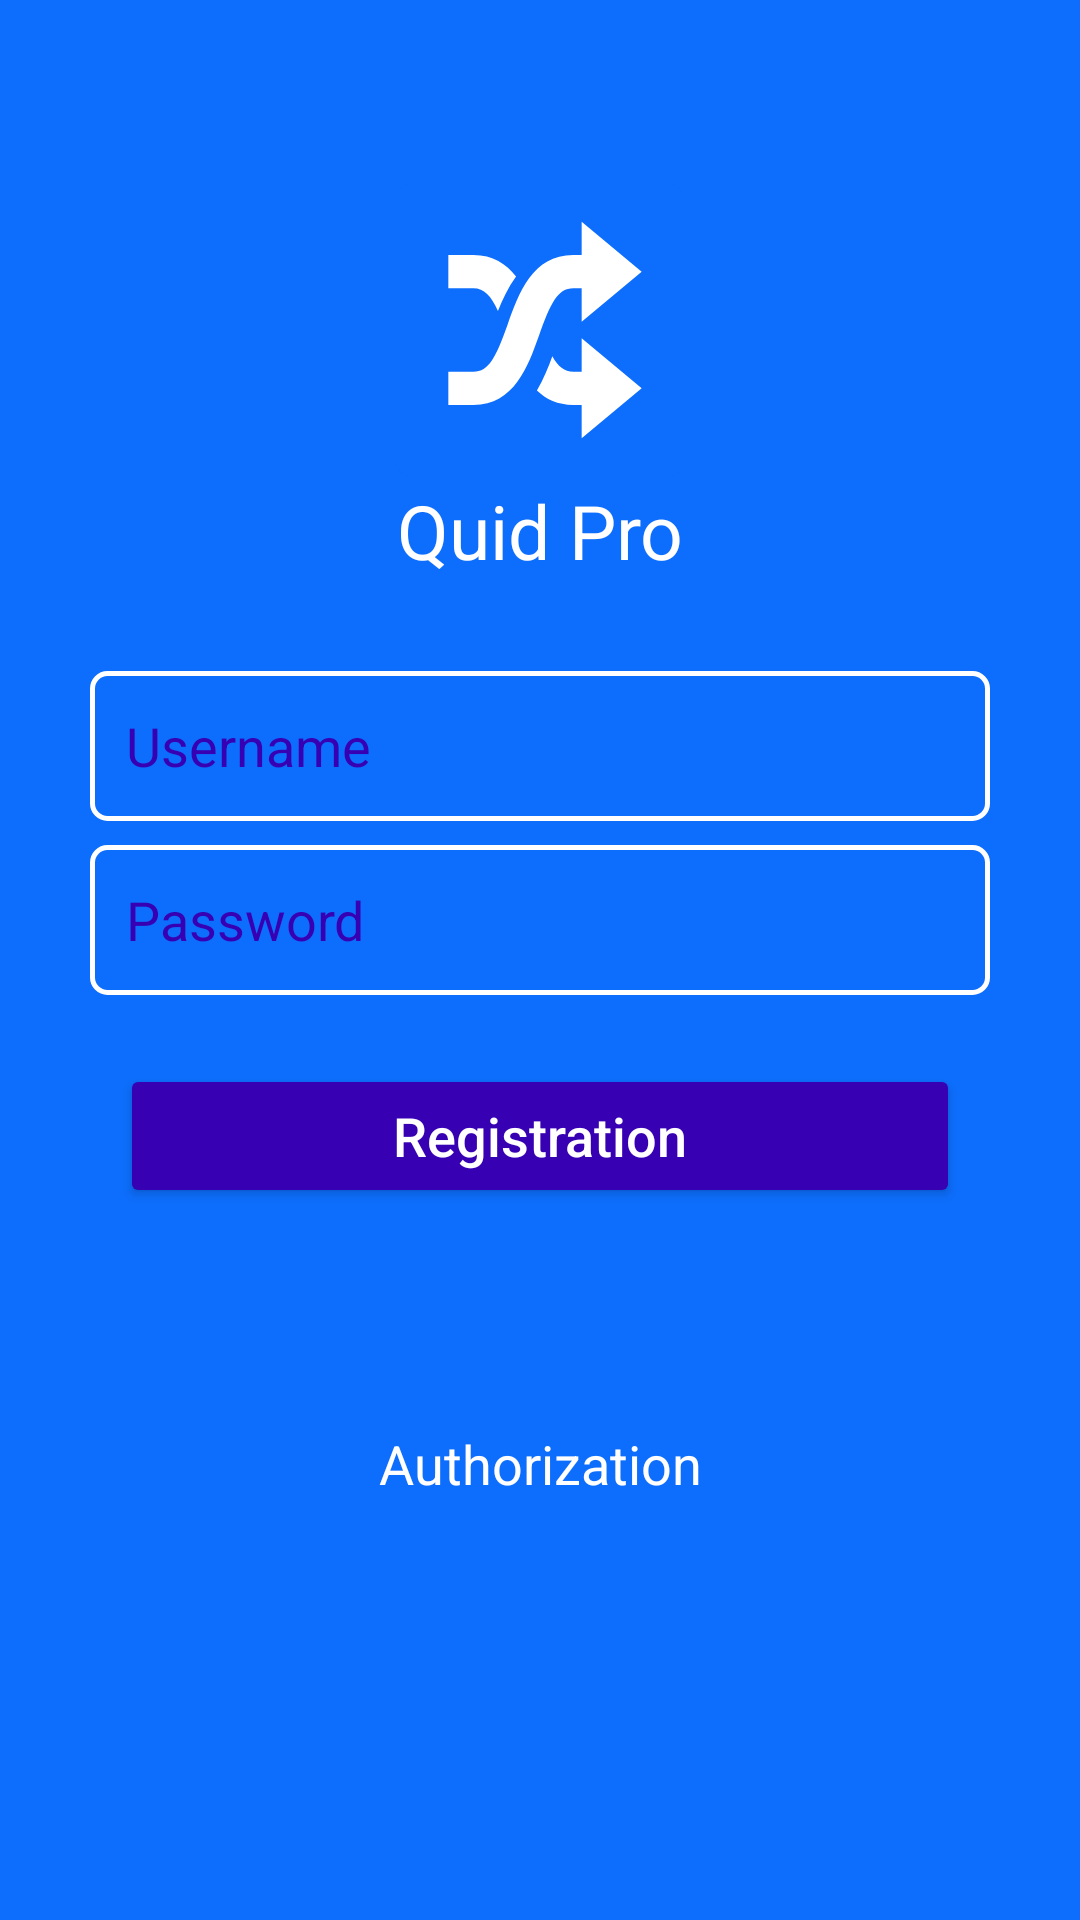

Locate icon controls on the screen. Image size 1080×1920, boxes as (x1, y1, x2, y2).
shuffle tracks main: (448, 222, 642, 438)
